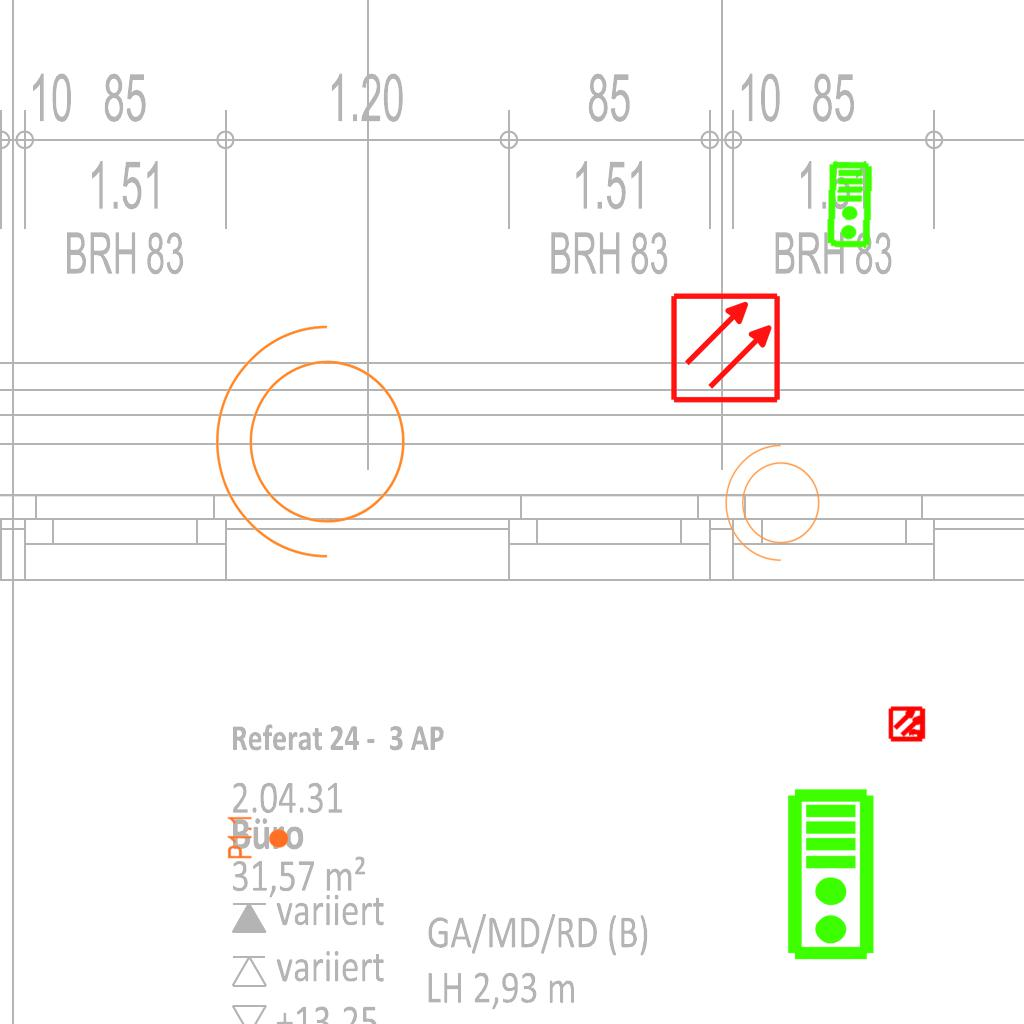Downlight_LED_Einbauleuchten_Flur_2: (226, 814, 290, 860)
Gegensprechanlage_mit_Video: (785, 787, 880, 963), (825, 160, 876, 250)
OT_Multisensormelder_(Kombination_RMO_WMD): (880, 696, 936, 752)
RMO_Rauchmelder_optischer: (669, 291, 782, 404)
Scheinwerfer_fuer_Alarmbeleuchtung: (205, 316, 430, 580), (720, 440, 832, 572)
